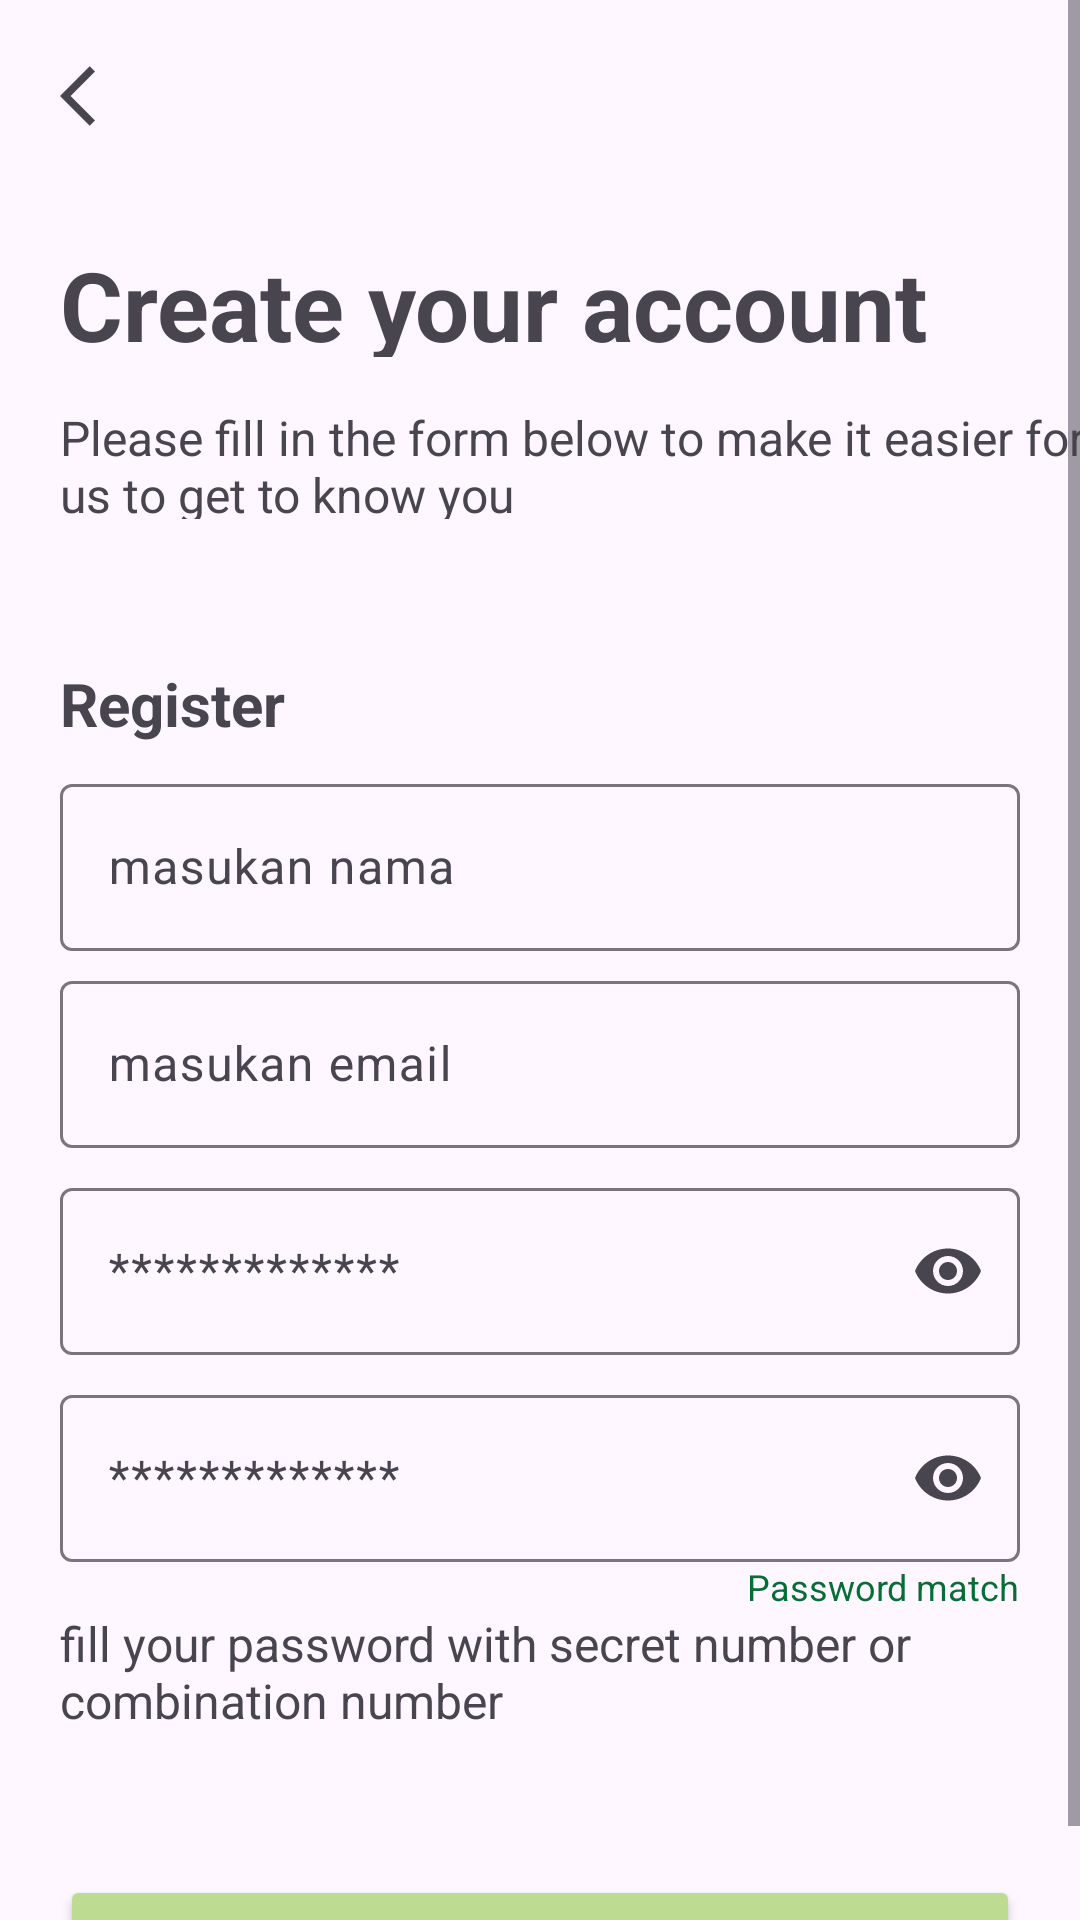

Icon click points for this 1080px x 1920px phone screenshot, format [x,y]:
arrow back: [77,96]
